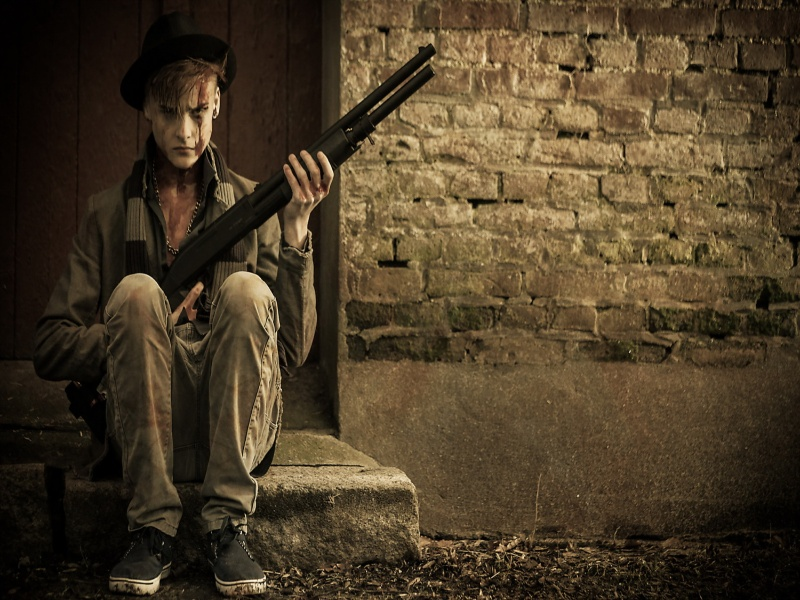person: (31, 11, 334, 596)
weapon: (66, 44, 436, 421)
